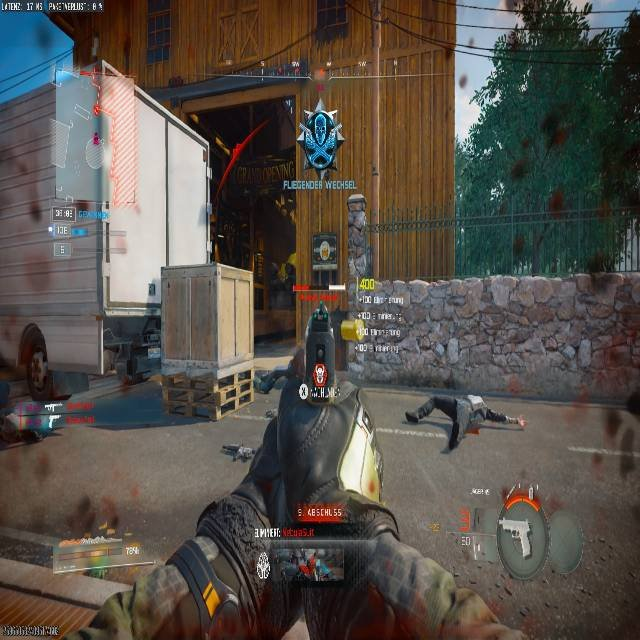player: (344, 198, 372, 280)
